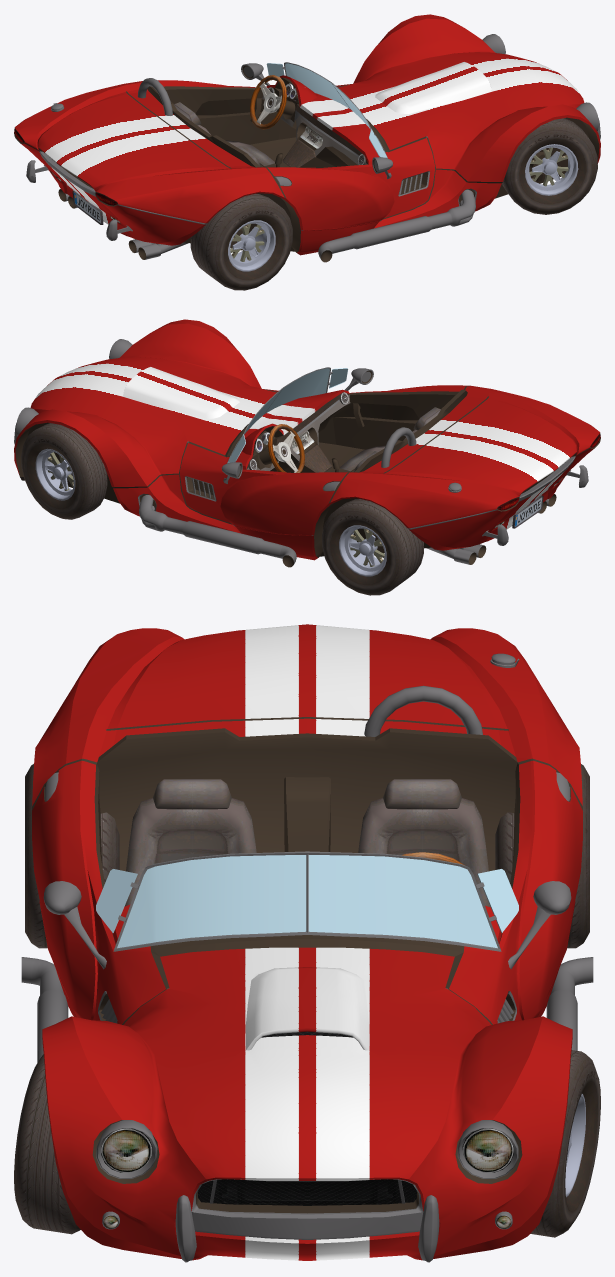
The model's file is Player.fbx.
The picture shows the model from 3 angles, top to bottom: view 1: azimuth 30°, elevation 25°; view 2: azimuth 150°, elevation 25°; view 3: azimuth 270°, elevation 25°; orthographic projection. The views are drawn at different scales.
Parts seen in each view (by area): view 1: node_id134, node_id138, node_id105, node_id114, node_id65, node_id136, node_id116, node_id60, node_id112, node_id103, node_id140, node_id153 (+9 smaller); view 2: node_id134, node_id138, node_id96, node_id87, node_id65, node_id89, node_id98, node_id60, node_id136, node_id94, node_id85, node_id140 (+8 smaller); view 3: node_id134, node_id138, node_id60, node_id155, node_id140, node_id107, node_id144, node_id65, node_id87, node_id52, node_id55, node_id50 (+10 smaller).
Part boxes in pixels (box(x1,y1,x2,y2)): node_id134: box(15, 14, 600, 255); node_id138: box(14, 77, 599, 252); node_id105: box(507, 127, 596, 213); node_id114: box(212, 203, 292, 289); node_id65: box(318, 189, 475, 259); node_id136: box(262, 87, 367, 167); node_id116: box(190, 194, 292, 290); node_id60: box(266, 63, 387, 157); node_id112: box(228, 220, 275, 271); node_id103: box(525, 144, 578, 195); node_id140: box(39, 110, 476, 230); node_id153: box(250, 75, 286, 129); node_id134: box(14, 319, 599, 560); node_id138: box(15, 385, 600, 557); node_id96: box(322, 508, 401, 594); node_id87: box(21, 432, 87, 518); node_id65: box(139, 495, 296, 564); node_id89: box(23, 423, 107, 519); node_id98: box(322, 499, 423, 595); node_id60: box(227, 368, 348, 462); node_id136: box(247, 392, 350, 472); node_id94: box(339, 525, 386, 576); node_id85: box(35, 448, 75, 500); node_id140: box(138, 399, 575, 535); node_id134: box(32, 624, 582, 1260); node_id138: box(32, 717, 582, 1213); node_id60: box(96, 855, 518, 948); node_id155: box(115, 779, 499, 944); node_id140: box(44, 772, 570, 1239); node_id107: box(17, 1055, 79, 1234); node_id144: box(198, 1031, 416, 1205); node_id65: box(21, 957, 593, 1062); node_id87: box(553, 1058, 600, 1233); node_id52: box(101, 1128, 513, 1172); node_id55: box(364, 685, 482, 736); node_id50: box(96, 1120, 518, 1178).
Size of the model in its own units: 0.9619 by 0.2434 by 0.5005.
Materials: 53 (51 with a texture image).
